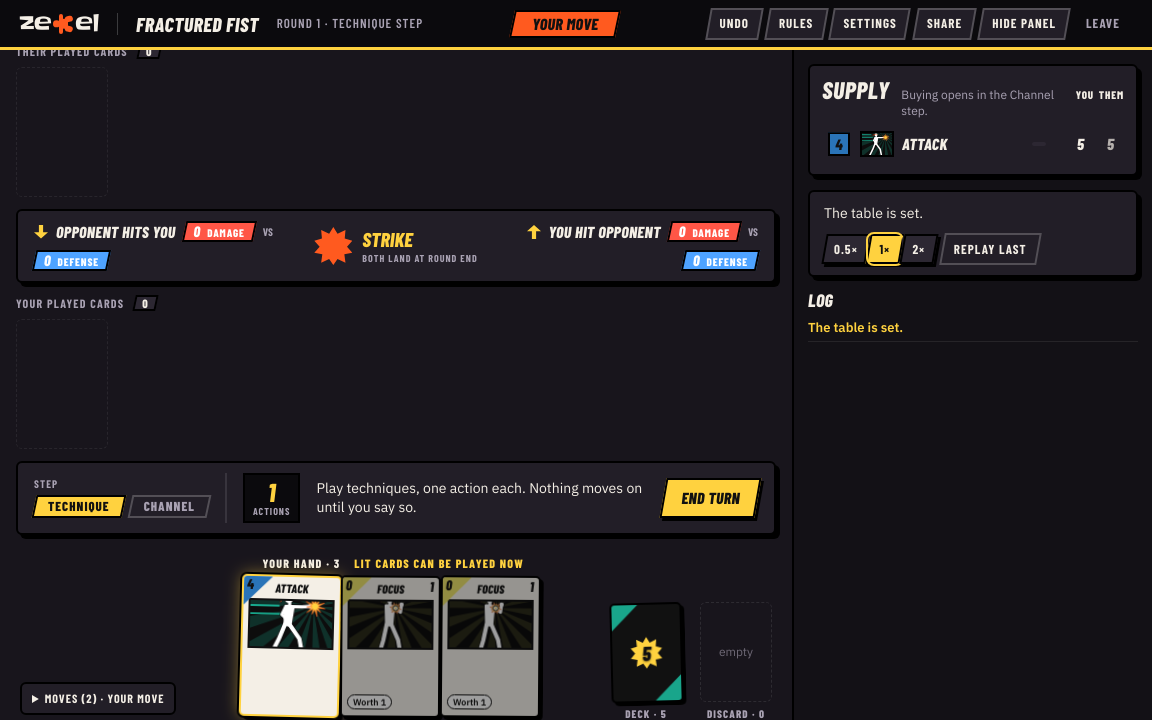
Test case: the table page and player agency › a rejection comes back as a rule with its lesson, not as a fault
The width and height of the screenshot is (1152, 720).
(page scrolled)
Click the button named "Attack" at x=291, y=646, box [239, 574, 342, 718]
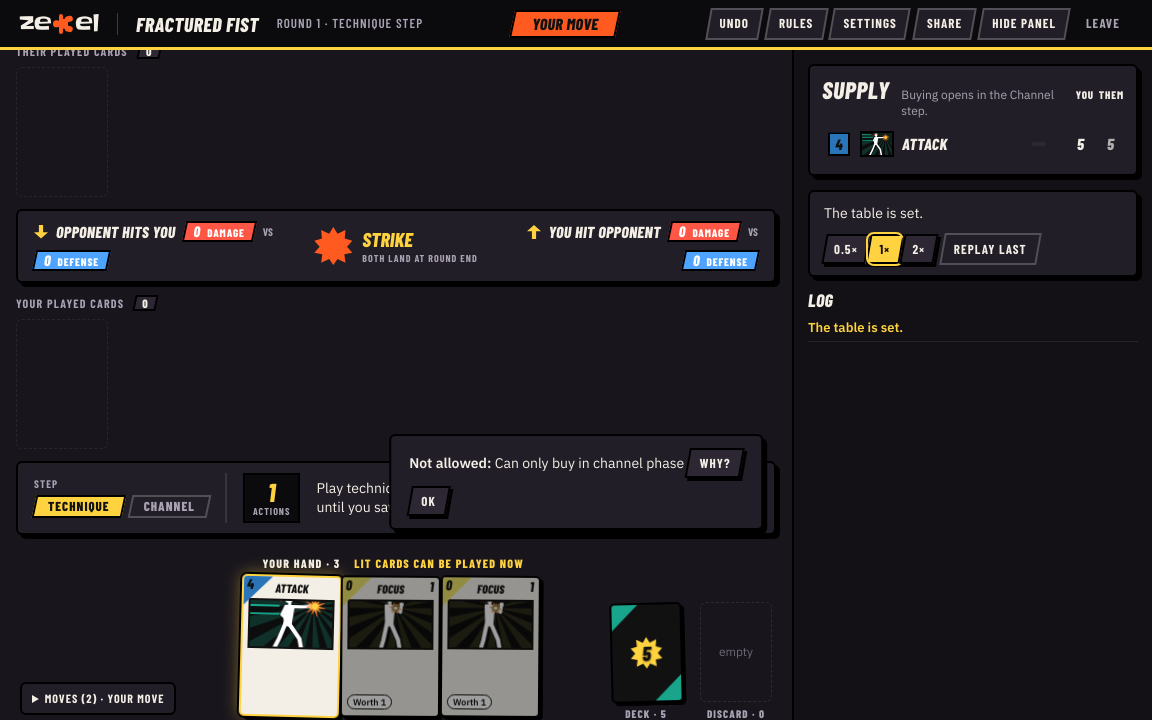
Expected: the message shows "Not allowed", [409, 454, 495, 472]
Expected: the message shows "Can only buy in channel phase", [495, 454, 684, 472]
Click the button "Why?" at x=715, y=463, box [688, 448, 743, 478]
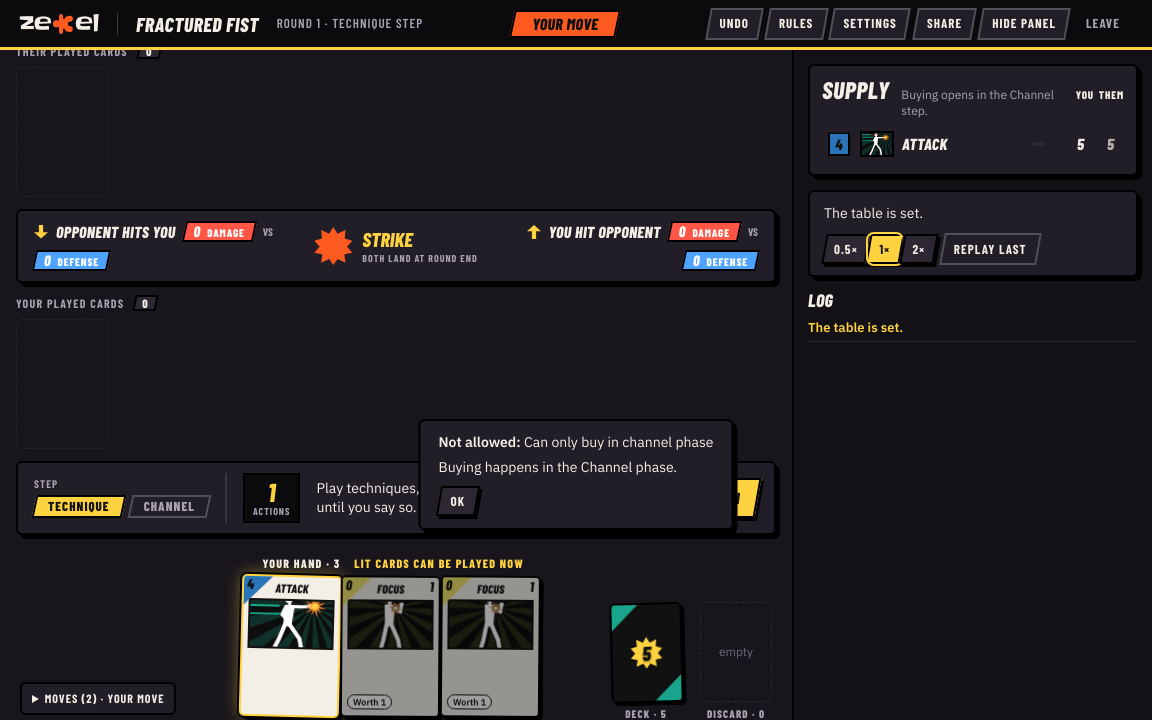
Expected: the message shows "Buying happens in the Channel phase.", [438, 458, 677, 476]
